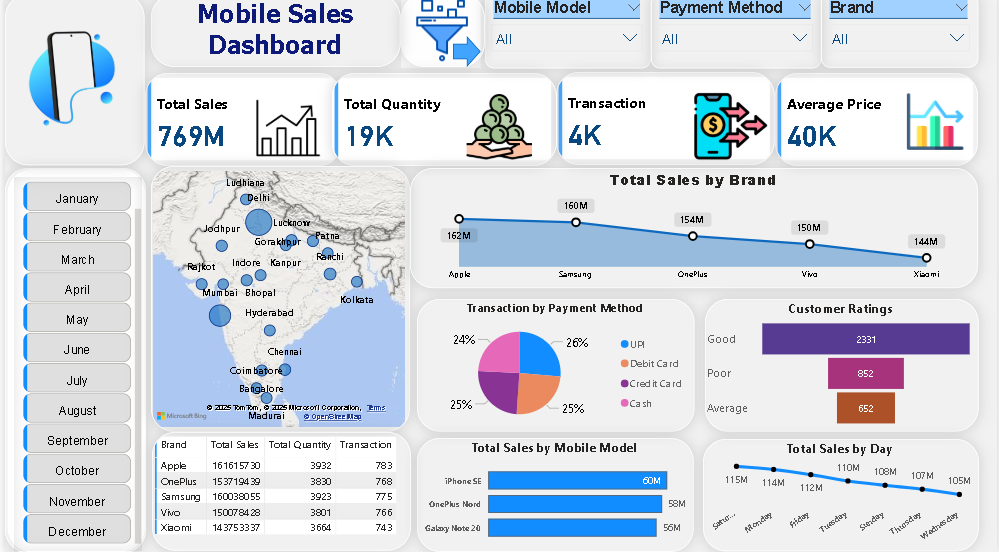

This screenshot's page, from the dashboard's own definition file:
{"tool":"powerbi","page":{"name":"Dashboard","canvas":[1280,720],"ordinal":0},"visuals":[{"type":"shape","box":[510.9,0,102.7,95.6],"z":0},{"type":"shape","box":[0,224.2,181.8,497],"z":3000},{"type":"advancedSlicerVisual","fields":{"Values":["Custom_Calendar.date.Variation.Date Hierarchy.Month"]},"box":[12.1,236.4,165.2,483.3],"z":4000},{"type":"cardVisual","title":"hththh","fields":{"Data":["Mobile_sales_data.Total_sales"]},"box":[181.2,101.3,254,119.9],"z":5000},{"type":"cardVisual","fields":{"Data":["Mobile_sales_data.Averge_ Price"]},"box":[993.9,101.5,262.1,119.7],"z":6000},{"type":"cardVisual","fields":{"Data":["Mobile_sales_data.Transaction"]},"box":[711.5,101.2,282.5,119.8],"z":7000},{"type":"cardVisual","fields":{"Data":["Mobile_sales_data.Total_quantity"]},"box":[422.4,101.3,289.7,119.9],"z":8000},{"type":"image","box":[567.9,121.3,139.8,99.9],"z":9000},{"type":"image","box":[877.6,118.4,117,104.2],"z":10000},{"type":"image","box":[1159.1,116.7,83.3,97],"z":11000},{"type":"image","box":[308.2,79.9,114.2,186.9],"z":12000},{"type":"slicer","fields":{"Values":["Mobile_sales_data.Mobile Model"]},"box":[619.3,0,214,95.6],"z":13000},{"type":"slicer","fields":{"Values":["Mobile_sales_data.Payment Method"]},"box":[833.4,0,219.8,95.6],"z":14000},{"type":"slicer","fields":{"Values":["Mobile_sales_data.Brand"]},"box":[1053,0,203,95.5],"z":15000},{"type":"image","box":[510.9,0,108.5,94.2],"z":16000},{"type":"shape","box":[577.9,54.2,35.7,40],"z":17000},{"type":"textbox","box":[188.4,0,322.5,94.2],"z":18000},{"type":"map","fields":{"Category":["Mobile_sales_data.City"],"Size":["Sum(Mobile_sales_data.Units Sold)"]},"box":[188.5,222.5,334.5,343],"z":19000},{"type":"lineChart","fields":{"Y":["Mobile_sales_data.Total Sales"],"Category":["Mobile_sales_data.Brand"]},"box":[522.7,224.2,733.3,154.5],"z":20000},{"type":"pieChart","fields":{"Y":["Mobile_sales_data.Transaction"],"Category":["Mobile_sales_data.Payment Method"]},"box":[531.8,393.9,357.6,171.2],"z":21000},{"type":"funnel","title":" Customer Ratings","fields":{"Category":["Mobile_sales_data.sales_rating"],"Y":["CountNonNull(Mobile_sales_data.Customer Ratings)"]},"box":[903,393.9,353,171.2],"z":22000},{"type":"clusteredBarChart","fields":{"Y":["Mobile_sales_data.Total Sales"],"Category":["Mobile_sales_data.Mobile Model"]},"box":[532.2,573.3,356.7,146.7],"z":23000},{"type":"lineChart","title":"Total Sales by Day ","fields":{"Y":["Mobile_sales_data.Total Sales"],"Category":["Mobile_sales_data.Day Name"]},"box":[900,573.8,356.2,145],"z":24000},{"type":"tableEx","fields":{"Values":["Mobile_sales_data.Brand","Mobile_sales_data.Total Sales","Mobile_sales_data.Total Quantity","Mobile_sales_data.Transaction"]},"box":[189,565.8,334.2,153.4],"z":25000},{"type":"image","box":[0,0,180.3,221.2],"z":25001}]}

Visuals, with their boxes in screenshot pixels (x1, y1, x2, y2), scaled from the page's 1280x720 canvas onto the 999x552 screenshot:
shape: bbox(399, 0, 479, 73)
shape: bbox(0, 172, 142, 551)
advancedSlicerVisual - Custom_Calendar.date.Variation.Date Hierarchy.Month: bbox(9, 181, 138, 551)
"hththh" cardVisual: bbox(141, 78, 340, 170)
cardVisual - Mobile_sales_data.Averge_ Price: bbox(776, 78, 980, 170)
cardVisual - Mobile_sales_data.Transaction: bbox(555, 78, 776, 169)
cardVisual - Mobile_sales_data.Total_quantity: bbox(330, 78, 556, 170)
image: bbox(443, 93, 552, 170)
image: bbox(685, 91, 776, 171)
image: bbox(905, 89, 970, 164)
image: bbox(241, 61, 330, 205)
slicer - Mobile_sales_data.Mobile Model: bbox(483, 0, 650, 73)
slicer - Mobile_sales_data.Payment Method: bbox(650, 0, 822, 73)
slicer - Mobile_sales_data.Brand: bbox(822, 0, 980, 73)
image: bbox(399, 0, 483, 72)
shape: bbox(451, 42, 479, 72)
textbox: bbox(147, 0, 399, 72)
map - Mobile_sales_data.City x Sum(Mobile_sales_data.Units Sold): bbox(147, 171, 408, 434)
lineChart - Mobile_sales_data.Total Sales x Mobile_sales_data.Brand: bbox(408, 172, 980, 290)
pieChart - Mobile_sales_data.Transaction x Mobile_sales_data.Payment Method: bbox(415, 302, 694, 433)
" Customer Ratings" funnel: bbox(705, 302, 980, 433)
clusteredBarChart - Mobile_sales_data.Total Sales x Mobile_sales_data.Mobile Model: bbox(415, 440, 694, 551)
"Total Sales by Day " lineChart: bbox(702, 440, 980, 551)
tableEx - Mobile_sales_data.Brand x Mobile_sales_data.Total Sales: bbox(148, 434, 408, 551)
image: bbox(0, 0, 141, 170)
